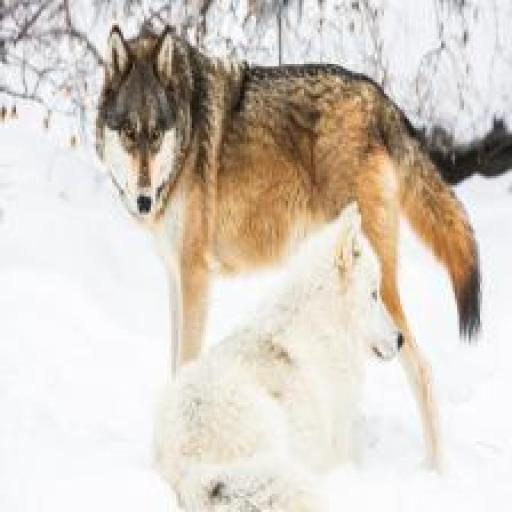wolf: (92, 7, 500, 512)
